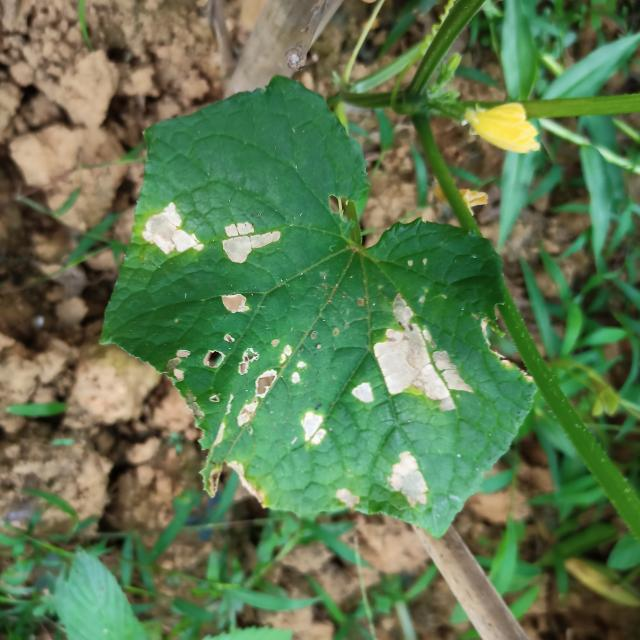disease_cucumber: (300, 287, 474, 512), (140, 194, 296, 320), (176, 321, 297, 443)
